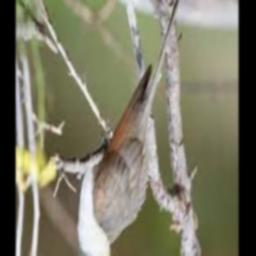Cuckoo: (77, 0, 181, 256)
